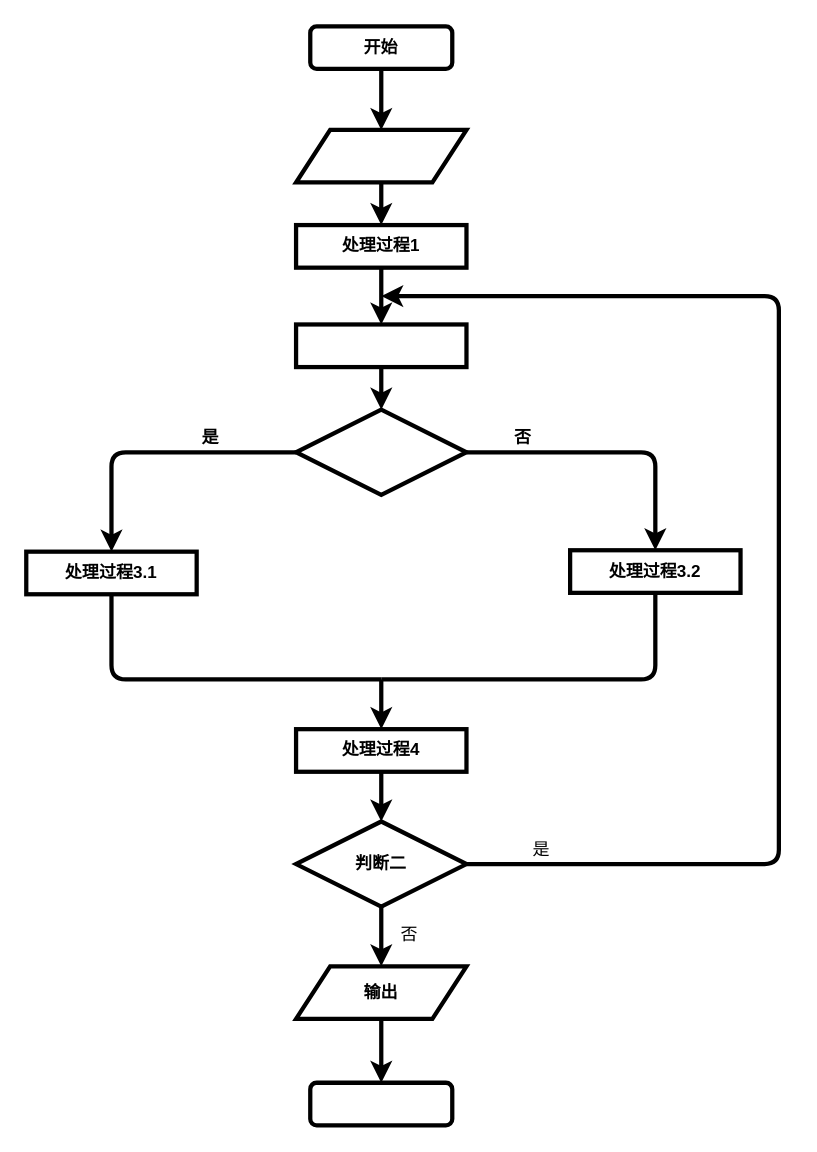
This 817x1152 diagram has some shape labels left out. The centre of each missing label's shape, as x and y in pixels:
判断一: (x=380, y=451)
处理过程2: (x=380, y=345)
结束: (x=380, y=1103)
输入: (x=380, y=155)
